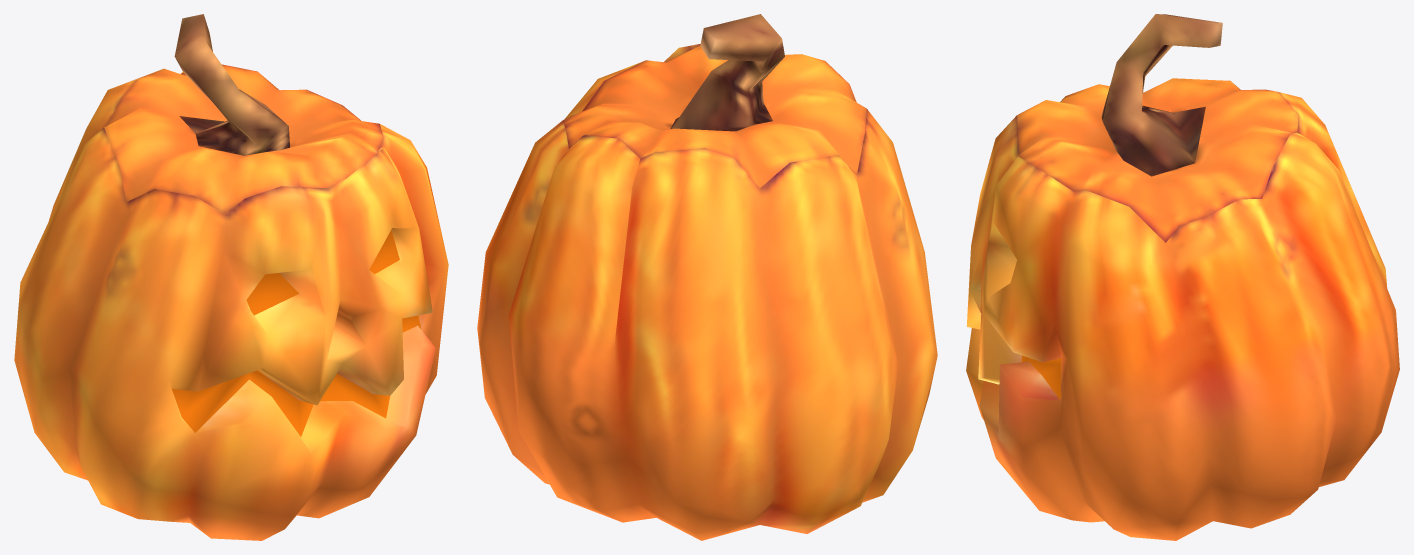
Rendered from CarvedPumpkin01.glb.
3 renders of one model, left to right at view 1: azimuth 30°, elevation 25°; view 2: azimuth 150°, elevation 25°; view 3: azimuth 270°, elevation 25°, orthographic. The views are drawn at different scales.
Visible parts, largest first — view 1: CarvedPumpkin01; view 2: CarvedPumpkin01; view 3: CarvedPumpkin01.
Boxes of the visible parts, x1,y1,x2,y2 form: CarvedPumpkin01: (14,14,448,540); CarvedPumpkin01: (477,14,937,540); CarvedPumpkin01: (966,14,1399,540).
Size of what is drawn, in the model's own units: 0.6013 by 0.7204 by 0.6081.
2 materials, 2 textured.
